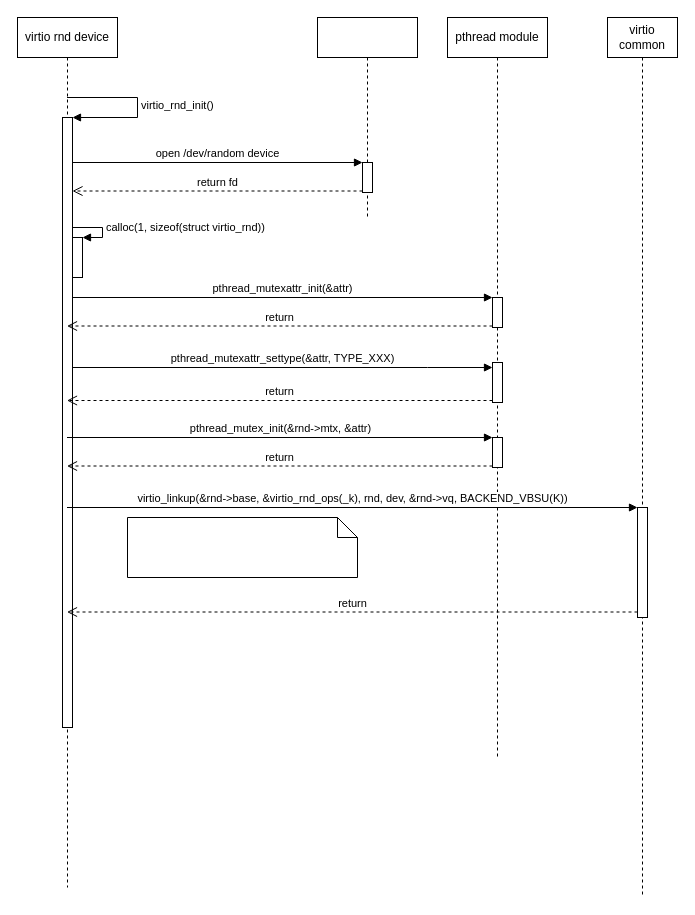
Image size: 695x915. Some labels were removed from this diagram. The shapes that lost their labels are listed below. From the top down, each one's box as (x1, y1, x2, y2) in pixels, then its label:
(316, 16, 418, 218): device: /dev/random
(126, 516, 358, 578): According to dm status, linkup random base, device, virtio queue and operations
